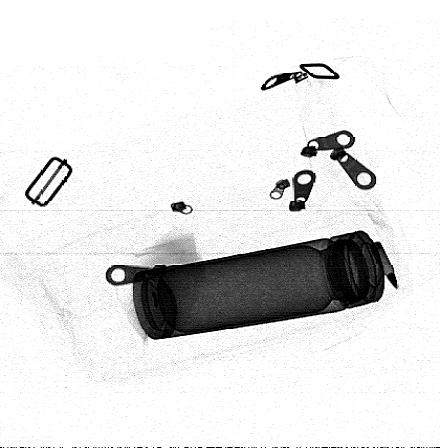Bullet: (367, 240, 399, 292)
